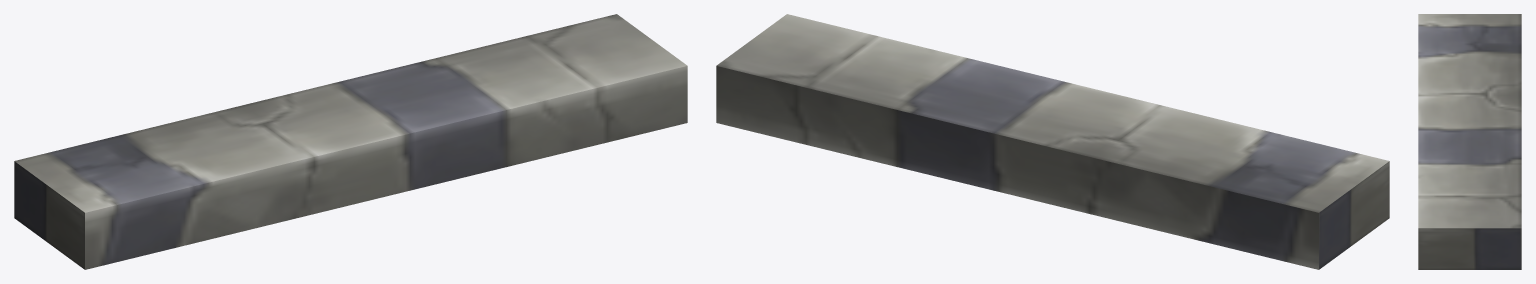
The model's file is OutdoorM_Stair_a_one.FBX.
3 views of the same model, side by side, from view 1: azimuth 30°, elevation 25°; view 2: azimuth 150°, elevation 25°; view 3: azimuth 270°, elevation 25° (orthographic). The views are drawn at different scales.
Parts seen in each view (by area): view 1: OutdoorM_Stair_a_one; view 2: OutdoorM_Stair_a_one; view 3: OutdoorM_Stair_a_one.
Boxes of the visible parts, x1,y1,x2,y2 form: OutdoorM_Stair_a_one: (14, 14, 687, 269); OutdoorM_Stair_a_one: (716, 14, 1389, 269); OutdoorM_Stair_a_one: (1418, 14, 1521, 269).
Bounding box in the file's own units: 17.6 × 1.59 × 3.58.
